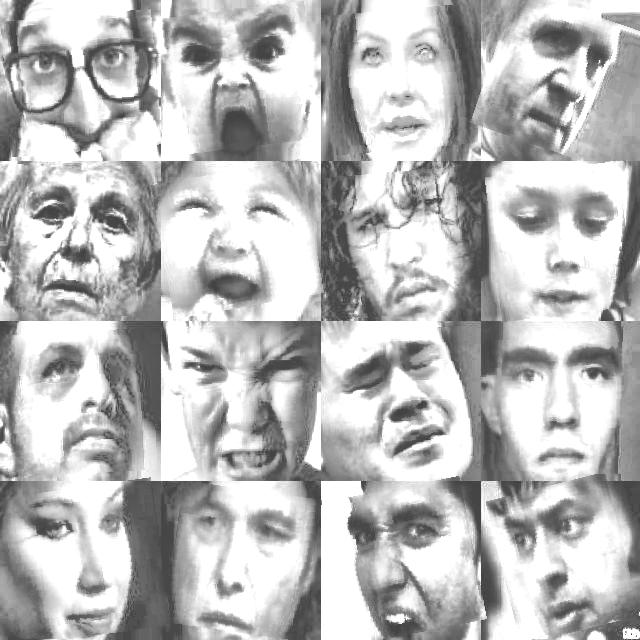angry: (160, 6, 317, 152), (325, 168, 477, 317), (337, 482, 481, 638), (3, 330, 156, 476), (493, 479, 632, 639), (327, 7, 476, 153), (169, 326, 311, 472)
fear: (3, 12, 160, 154)
happy: (6, 482, 166, 640), (157, 165, 319, 313), (489, 165, 631, 319)
neutral: (479, 0, 640, 159), (485, 322, 629, 473)
sad: (168, 484, 318, 636), (327, 327, 475, 474), (6, 167, 150, 315)
